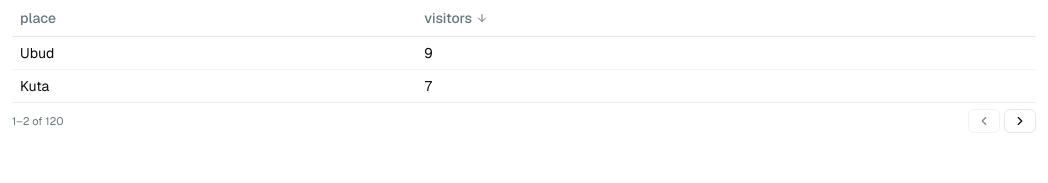
Test: RawTable › shows the server's sentence and reference when a page cannot be read
Click the button named "Next page". click: coordinates (1020, 121)
box: [1004,109,1036,133]
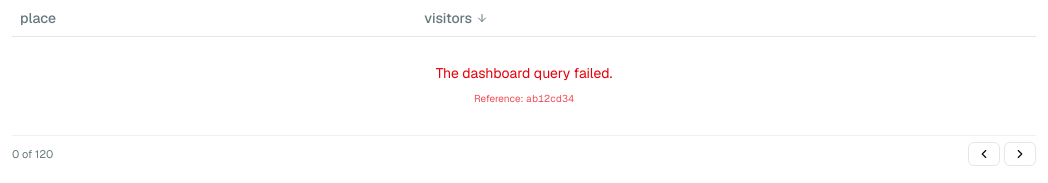
Now the message shows "The dashboard query failed.", box [436,64,612,82]
Now the text "ab12cd34" is shown, box [526,92,574,105]
